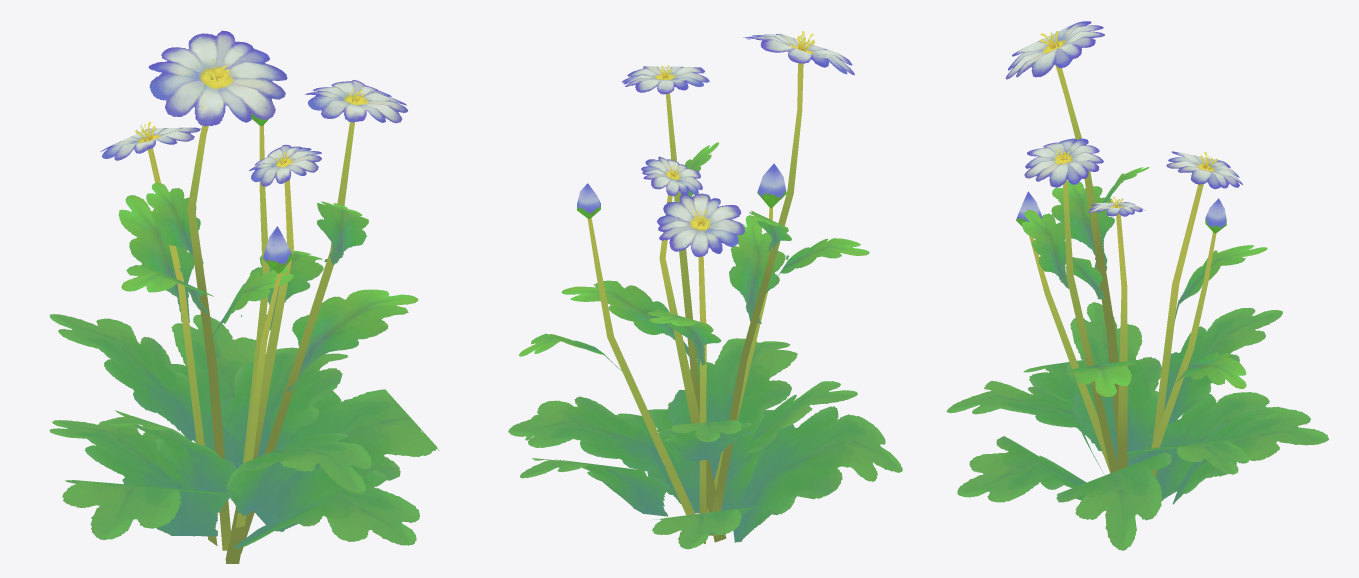
File: violetFlower.glb
The picture shows the model from 3 angles, left to right: view 1: azimuth 30°, elevation 25°; view 2: azimuth 150°, elevation 25°; view 3: azimuth 270°, elevation 25°; orthographic projection. The views are drawn at different scales.
Parts seen in each view (by area): view 1: Area_Common_Prop_Flower_Blue_03_Vo; view 2: Area_Common_Prop_Flower_Blue_03_Vo; view 3: Area_Common_Prop_Flower_Blue_03_Vo.
Boxes of the visible parts, <box> form: Area_Common_Prop_Flower_Blue_03_Vo: <box>49,30,439,563</box>; Area_Common_Prop_Flower_Blue_03_Vo: <box>508,31,902,549</box>; Area_Common_Prop_Flower_Blue_03_Vo: <box>946,21,1328,550</box>.
Bounding box in the file's own units: 0.5685 × 0.7476 × 0.5814.
Materials: 1 (1 with a texture image).
